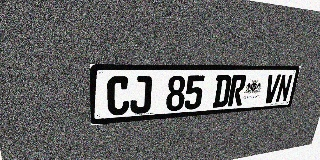5: (184, 75, 205, 110)
8: (165, 75, 187, 111)
C: (107, 76, 130, 116)
D: (212, 75, 232, 108)
J: (130, 76, 152, 114)
N: (275, 74, 293, 103)
R: (227, 75, 247, 106)
V: (263, 74, 281, 104)
